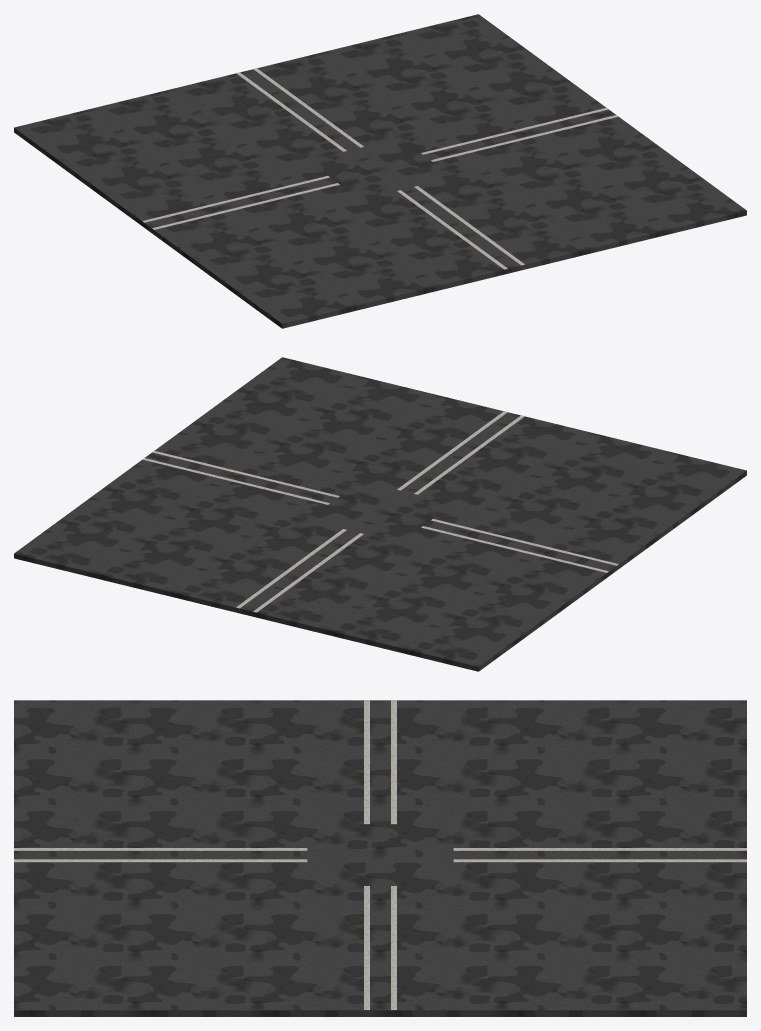
The model's file is road.asphalt.cross.glb.
3 views of the same model, one above another, from view 1: azimuth 30°, elevation 25°; view 2: azimuth 150°, elevation 25°; view 3: azimuth 270°, elevation 25° (orthographic). The views are drawn at different scales.
Parts seen in each view (by area): view 1: road.asphalt.cross; view 2: road.asphalt.cross; view 3: road.asphalt.cross.
Boxes of the visible parts, x1,y1,x2,y2 form: road.asphalt.cross: [14, 14, 746, 328]; road.asphalt.cross: [14, 357, 746, 671]; road.asphalt.cross: [14, 700, 746, 1016].
Bounding box in the file's own units: 12 × 0.126 × 12.
2 materials, 2 textured.
